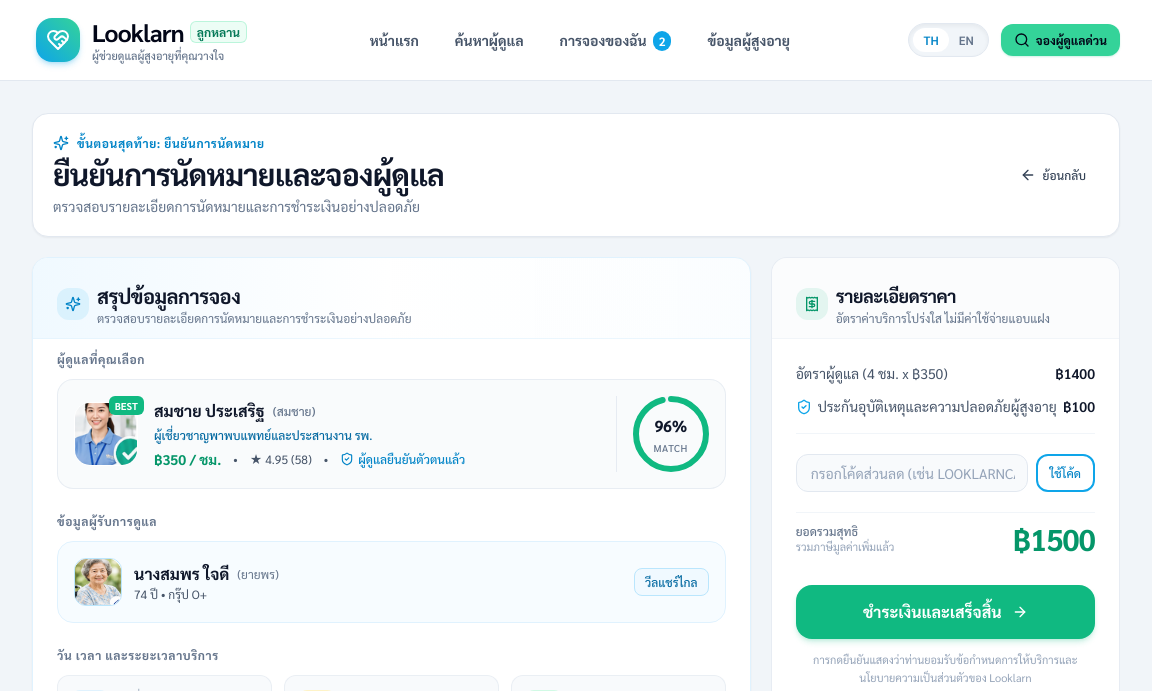
Scenario: Tier 1: Core Feature Coverage across 7 Routes & Components › Feature 6: Booking Flow & Success Modal (/book/:id) › 6.4 should show booking success modal with reference ID on confirm click
Click the button "ชำระเงินและเสร็จสิ้น" at x=945, y=612, box [796,585,1095,639]
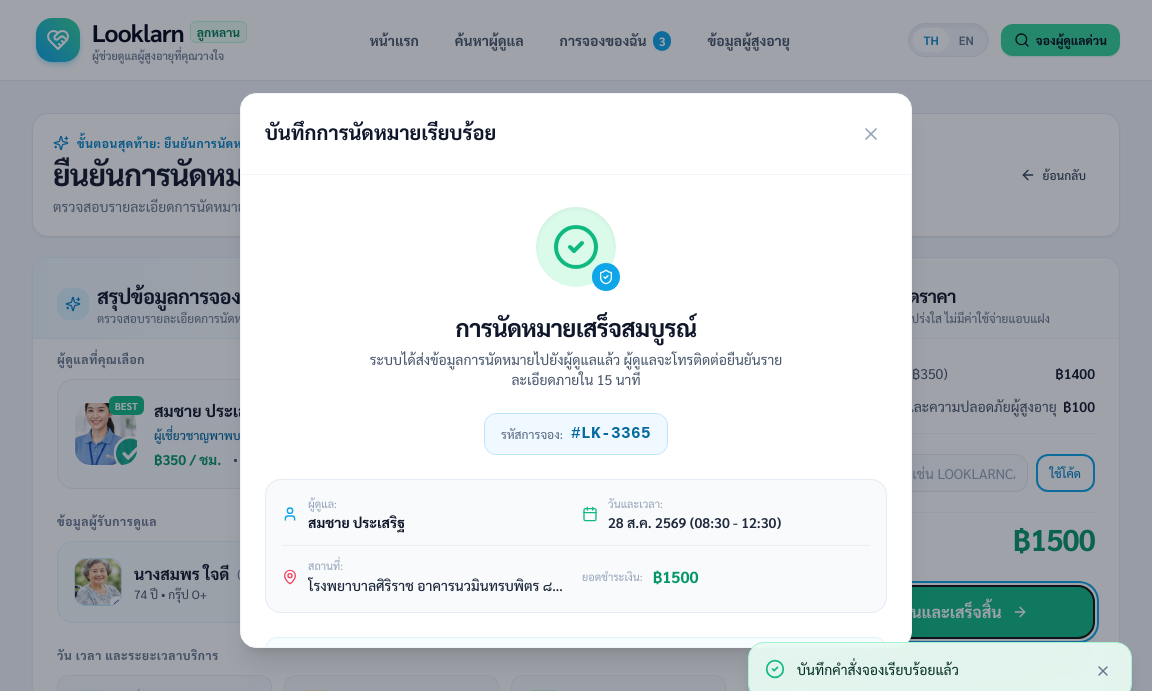
Check: the text "รหัสการจอง:" is shown, box [501,426,563,442]
